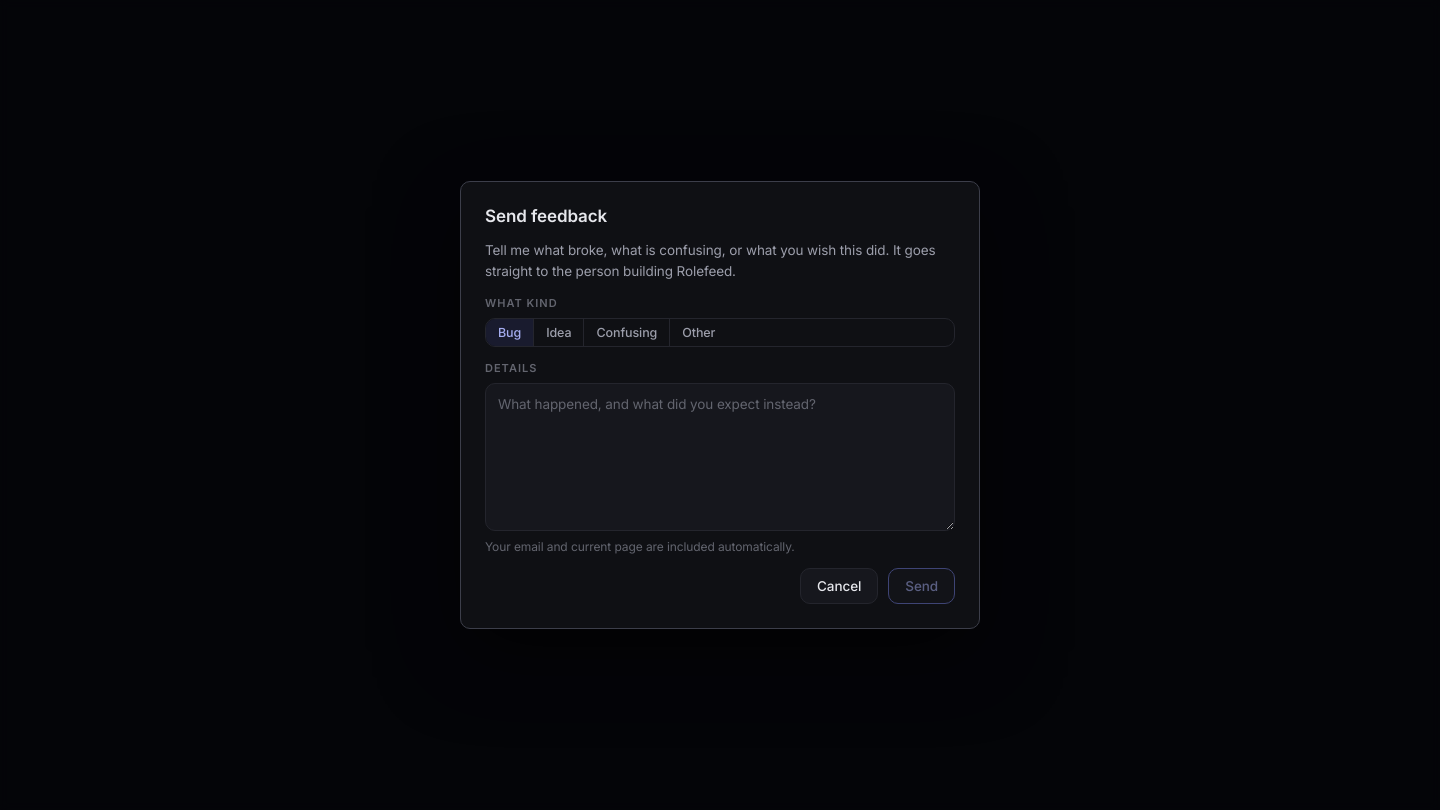
FeedbackDialog › reports a transport failure in plain language
Type "hello" into the text box labelled "details". click: point(720, 457)
box: left=485, top=383, right=955, bottom=531
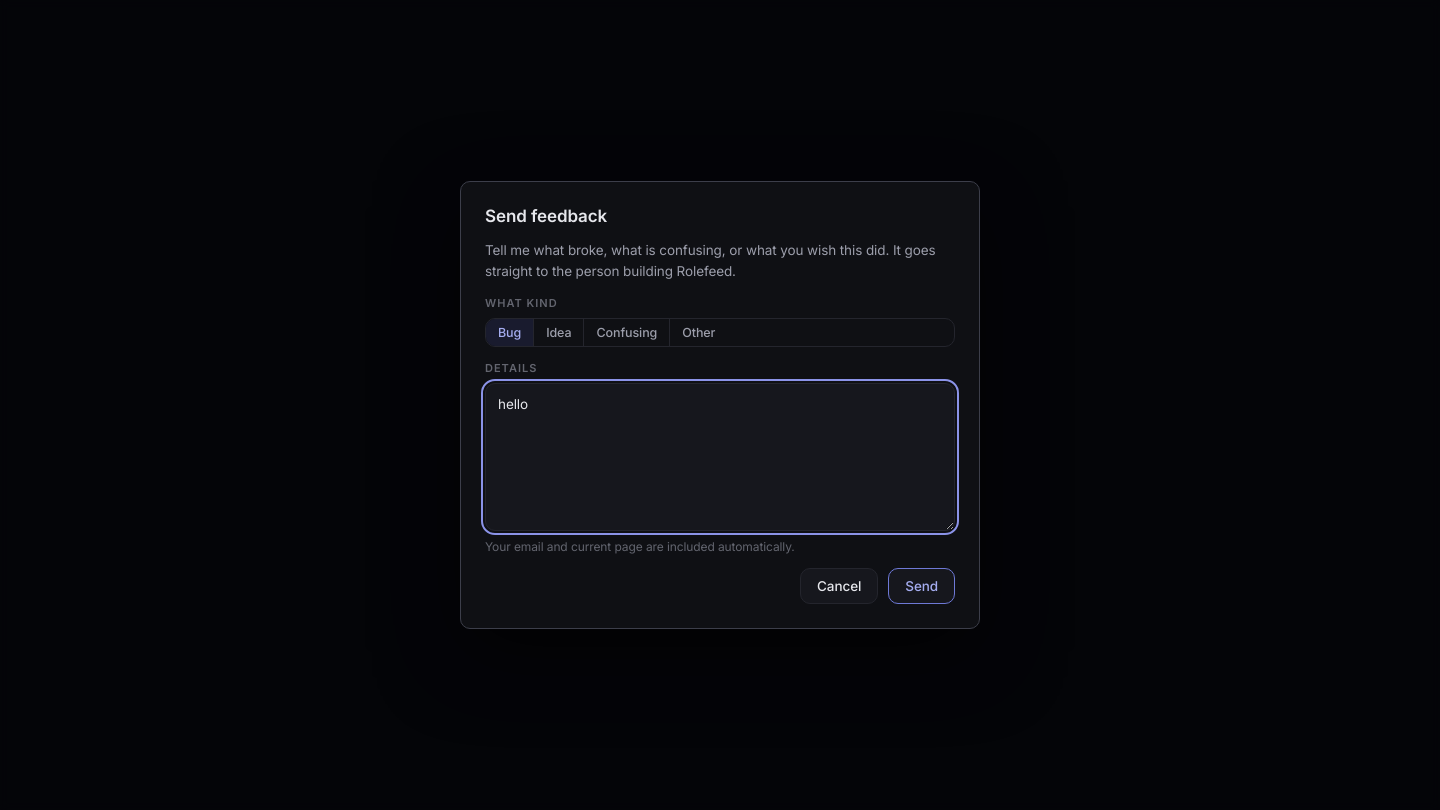
Click the button "Send". click: point(922, 586)
box: left=888, top=568, right=955, bottom=604
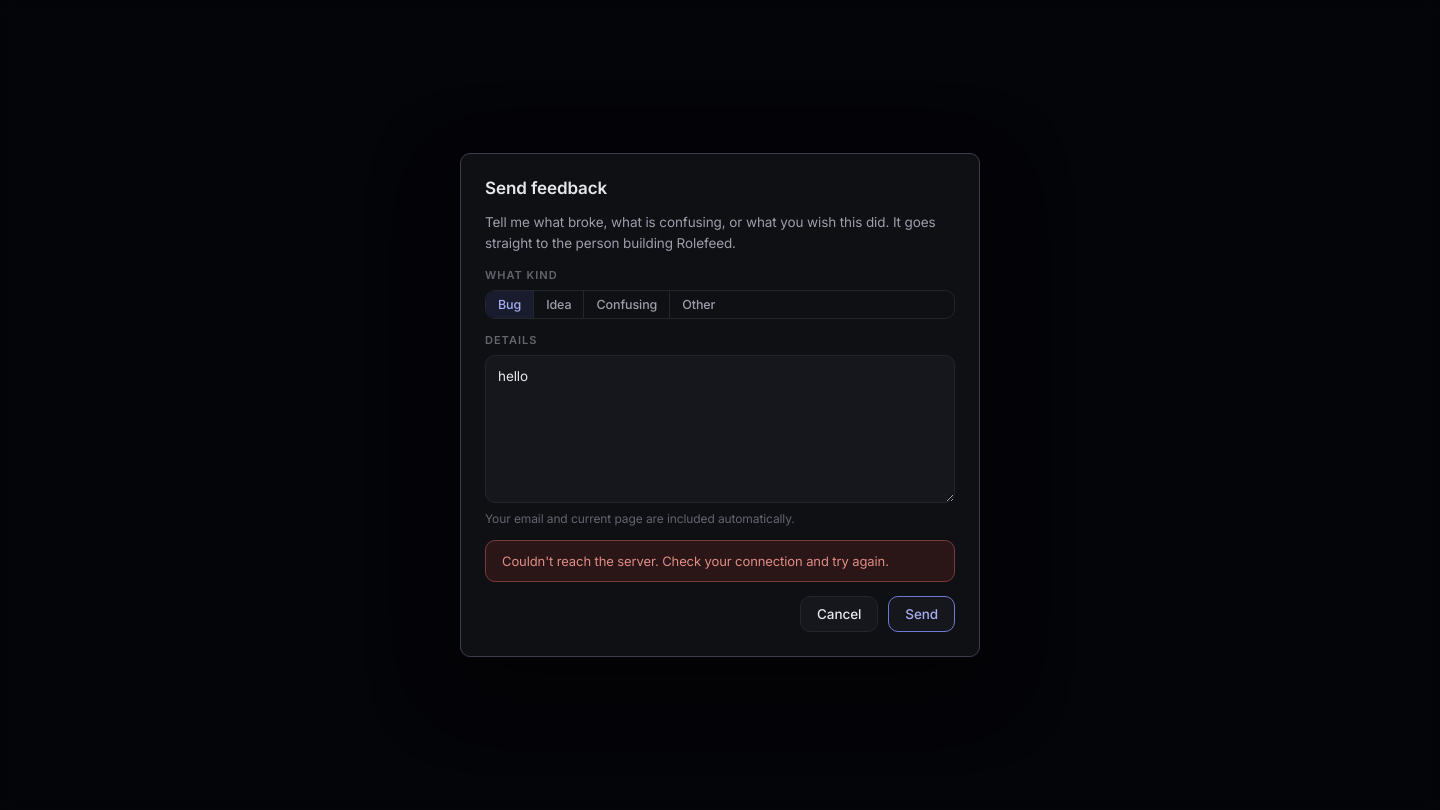
Result: the message shows "Couldn't reach the server" at left=502, top=553, right=889, bottom=569
